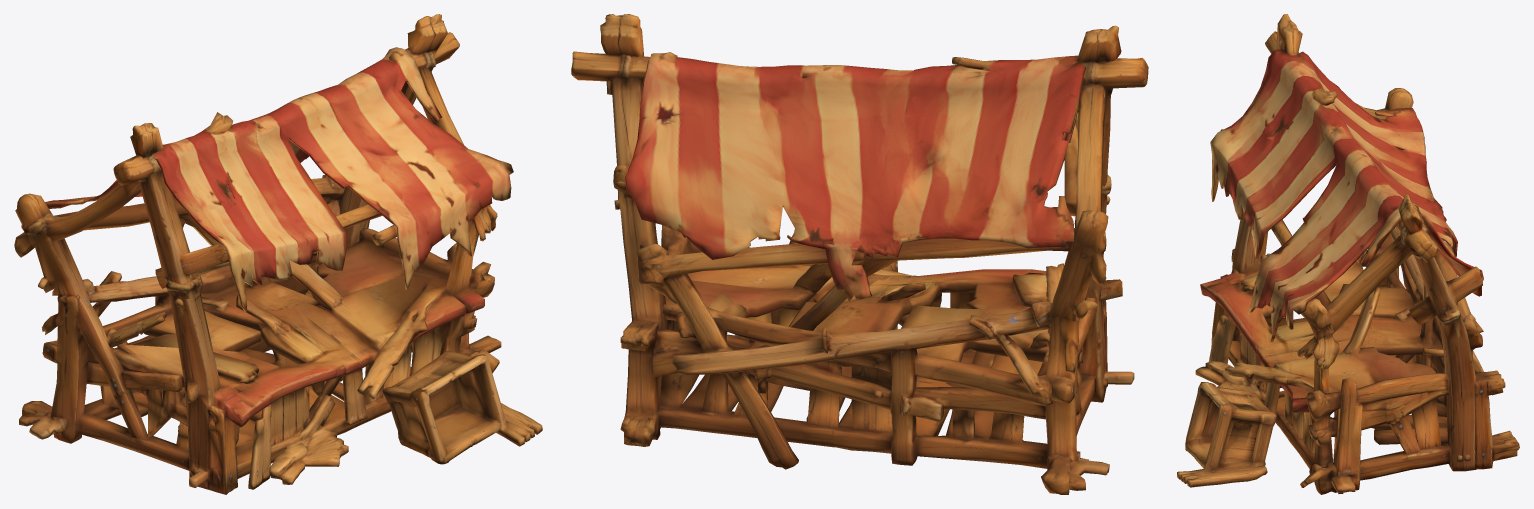
File: collapsed_market_stall.glb
The picture shows the model from 3 angles, left to right: view 1: azimuth 30°, elevation 25°; view 2: azimuth 150°, elevation 25°; view 3: azimuth 270°, elevation 25°; orthographic projection. The views are drawn at different scales.
Visible parts, largest first — view 1: tripo_node_0fa7f699-0ac6-492b-9361-6153bf69ca52; view 2: tripo_node_0fa7f699-0ac6-492b-9361-6153bf69ca52; view 3: tripo_node_0fa7f699-0ac6-492b-9361-6153bf69ca52.
Boxes of the visible parts, x1=… form: tripo_node_0fa7f699-0ac6-492b-9361-6153bf69ca52: x1=14, y1=14, x2=542, y2=494; tripo_node_0fa7f699-0ac6-492b-9361-6153bf69ca52: x1=571, y1=14, x2=1148, y2=494; tripo_node_0fa7f699-0ac6-492b-9361-6153bf69ca52: x1=1177, y1=14, x2=1519, y2=494.
Bounding box in the file's own units: 0.979 × 0.7452 × 0.7107.
Materials: 1 (1 with a texture image).
